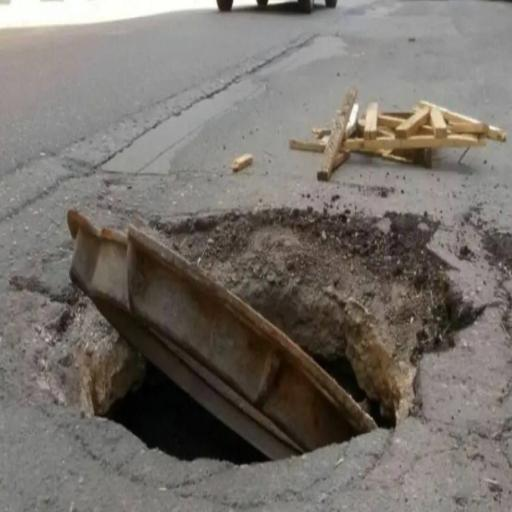construction_fence: (108, 200, 479, 463), (107, 362, 267, 464)
